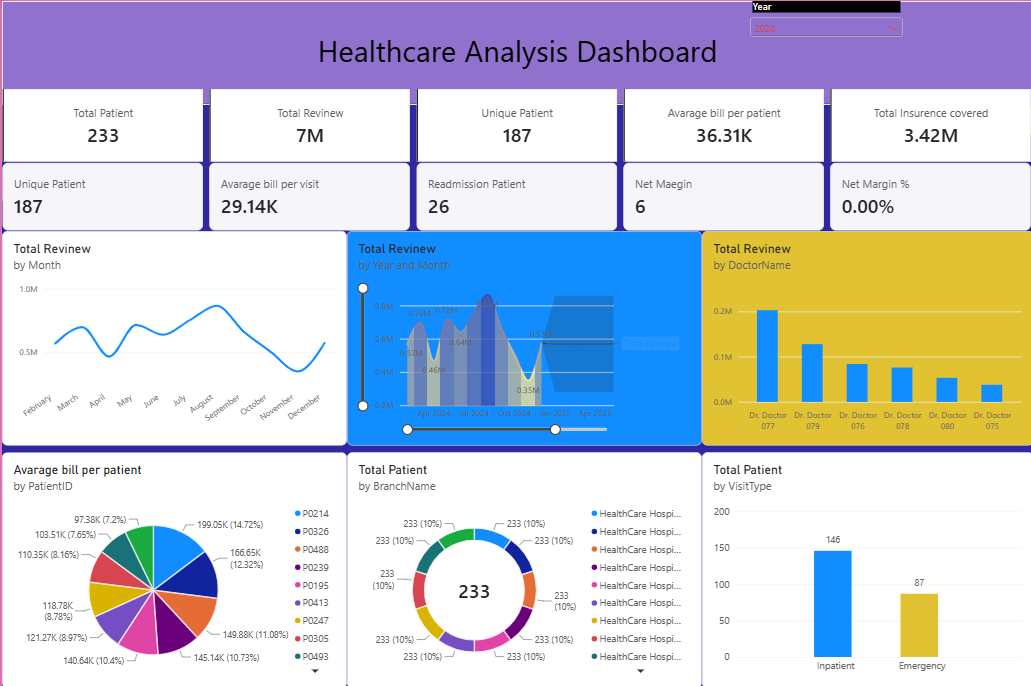

The page's visual inventory and layout, read from the dashboard file:
{"tool":"powerbi","page":{"name":"Page 2","canvas":[1500,1000],"ordinal":1},"visuals":[{"type":"shape","box":[0,0,1500,150],"z":0},{"type":"textbox","box":[0,41.2,1500,86.3],"z":1000},{"type":"cardVisual","fields":{"Data":["ALL Measure.Total Patient","ALL Measure.Total Revinew","ALL Measure.Unique Patient","ALL Measure.Avarage bill per patient","ALL Measure.Total Insurence covered"]},"box":[0,127.5,1500,107.8],"z":2000},{"type":"cardVisual","fields":{"Data":["ALL Measure.Unique Patient","ALL Measure.Avarage bill per visit","ALL Measure.Readmission Patient","ALL Measure.Net Maegin","ALL Measure.Net Margin %"]},"box":[0,235.3,1500,100],"z":3000},{"type":"lineChart","fields":{"Category":["DimCalendar.Date.Variation.Date Hierarchy.Month"],"Y":["ALL Measure.Total Revinew"]},"box":[0,335.3,502,311.8],"z":4000},{"type":"slicer","fields":{"Values":["DimCalendar.Date.Variation.Date Hierarchy.Year"]},"box":[1084.3,0,231.4,105.9],"z":5000},{"type":"lineChart","fields":{"Category":["DimCalendar.Date.Variation.Date Hierarchy.Year","DimCalendar.Date.Variation.Date Hierarchy.Month"],"Y":["ALL Measure.Total Revinew"]},"box":[502,335.3,515.7,311.8],"z":6000},{"type":"clusteredColumnChart","fields":{"Category":["DimDoctor.DoctorName"],"Y":["ALL Measure.Total Revinew"]},"box":[1017.6,335.3,482.4,311.8],"z":7000},{"type":"pieChart","fields":{"Category":["DimPatient.PatientID"],"Y":["ALL Measure.Avarage bill per patient"]},"box":[0,656.9,502,343.1],"z":8000},{"type":"donutChart","fields":{"Category":["DimHospitalBranch.BranchName"],"Y":["ALL Measure.Total Patient"]},"box":[502,657,516,343],"z":9000},{"type":"lineClusteredColumnComboChart","fields":{"Category":["FactTransaction.VisitType"],"Y":["ALL Measure.Total Patient"]},"box":[1018,657,482,343],"z":10000}]}

Visuals, with their boxes in screenshot pixels (x1, y1, x2, y2), scaled from the page's 1500x1000 canvas onto the 1031x686 screenshot:
shape: {"left": 0, "top": 0, "right": 1030, "bottom": 103}
textbox: {"left": 0, "top": 28, "right": 1030, "bottom": 87}
cardVisual - ALL Measure.Total Patient x ALL Measure.Total Revinew: {"left": 0, "top": 87, "right": 1030, "bottom": 161}
cardVisual - ALL Measure.Unique Patient x ALL Measure.Avarage bill per visit: {"left": 0, "top": 161, "right": 1030, "bottom": 230}
lineChart - DimCalendar.Date.Variation.Date Hierarchy.Month x ALL Measure.Total Revinew: {"left": 0, "top": 230, "right": 345, "bottom": 444}
slicer - DimCalendar.Date.Variation.Date Hierarchy.Year: {"left": 745, "top": 0, "right": 904, "bottom": 73}
lineChart - DimCalendar.Date.Variation.Date Hierarchy.Year x DimCalendar.Date.Variation.Date Hierarchy.Month: {"left": 345, "top": 230, "right": 699, "bottom": 444}
clusteredColumnChart - DimDoctor.DoctorName x ALL Measure.Total Revinew: {"left": 699, "top": 230, "right": 1030, "bottom": 444}
pieChart - DimPatient.PatientID x ALL Measure.Avarage bill per patient: {"left": 0, "top": 451, "right": 345, "bottom": 685}
donutChart - DimHospitalBranch.BranchName x ALL Measure.Total Patient: {"left": 345, "top": 451, "right": 700, "bottom": 685}
lineClusteredColumnComboChart - FactTransaction.VisitType x ALL Measure.Total Patient: {"left": 700, "top": 451, "right": 1030, "bottom": 685}
